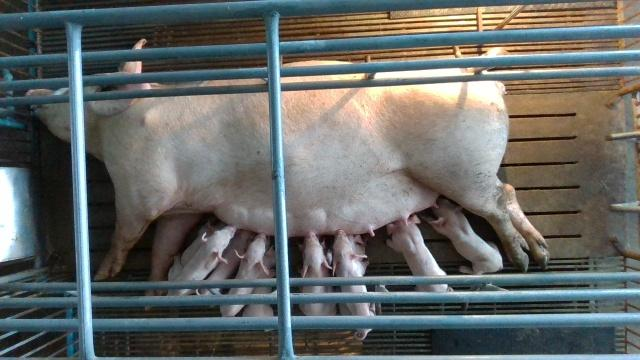piglet: (164, 221, 240, 304), (426, 198, 502, 275), (331, 227, 381, 344), (388, 214, 454, 291), (217, 234, 273, 318), (295, 236, 335, 316), (245, 250, 278, 320)
sow-sleep-lactate: (25, 38, 550, 312)
